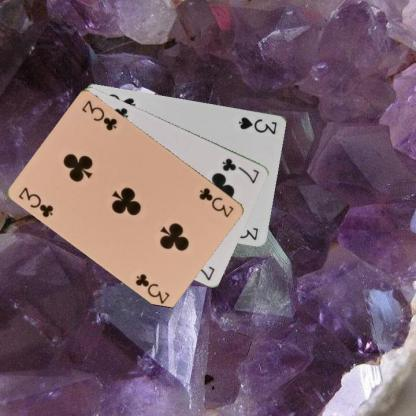3c: (16, 184, 56, 219), (196, 185, 236, 218)
3s: (236, 114, 278, 135)
7c: (220, 155, 261, 185)
